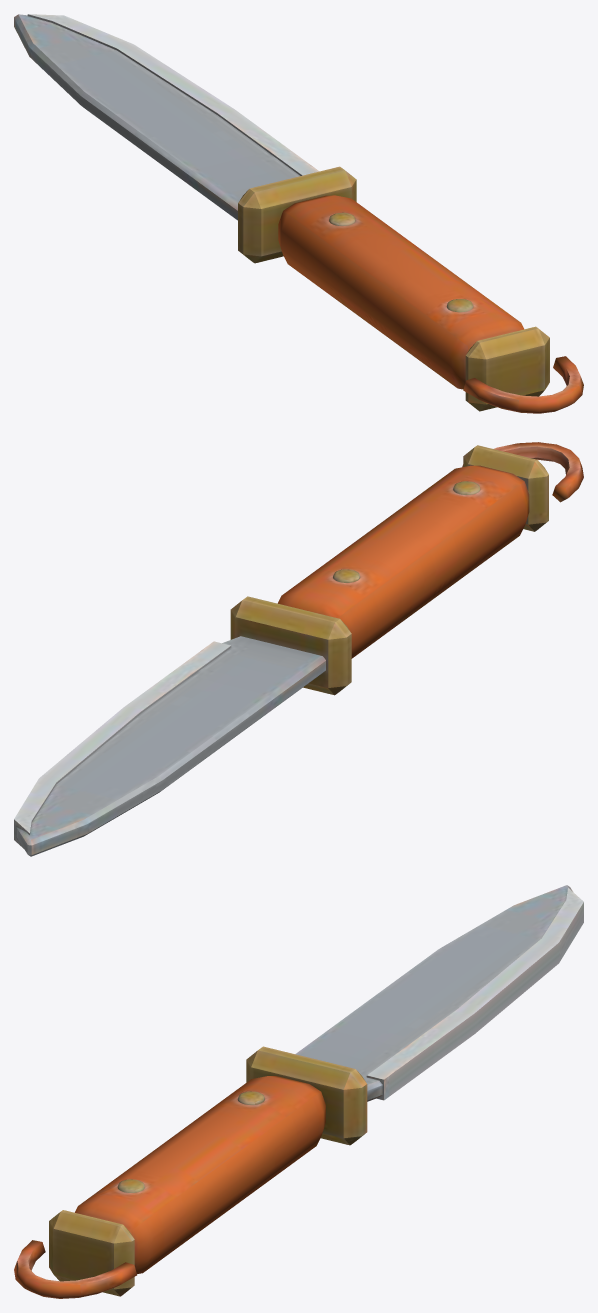
The model's file is knife.glb.
3 renders of one model, top to bottom at view 1: azimuth 30°, elevation 25°; view 2: azimuth 150°, elevation 25°; view 3: azimuth 330°, elevation 25°, orthographic. The views are drawn at different scales.
Parts seen in each view (by area): view 1: knife; view 2: knife; view 3: knife.
Boxes of the visible parts, x1=… form: knife: x1=14, y1=14, x2=583, y2=413; knife: x1=14, y1=442, x2=583, y2=856; knife: x1=14, y1=885, x2=583, y2=1298.
Bounding box in the file's own units: 0.05 × 0.03 × 0.4063.
1 material, 1 textured.
